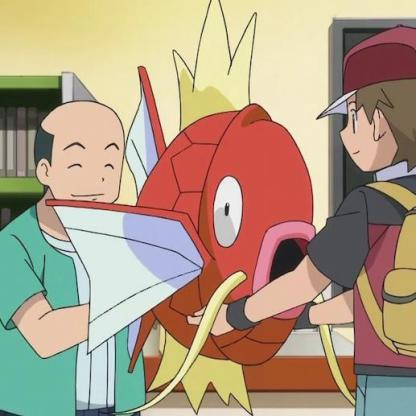Magikarp: (1, 1, 403, 416)
